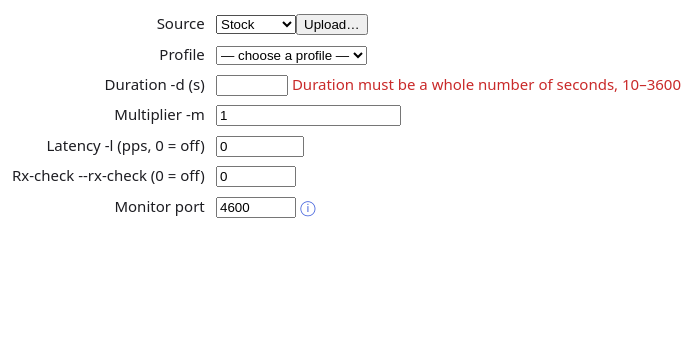
StfRunFields › profiles list and the picked profile shows its templates
The width and height of the screenshot is (698, 340).
Expected: the dropdown labelled "Source" shows "Stock", left=216, top=15, right=296, bottom=34
Select "cap2/sfr2.yaml" in the dropdown labelled "Profile". click: [292, 55]
box: left=216, top=46, right=367, bottom=64
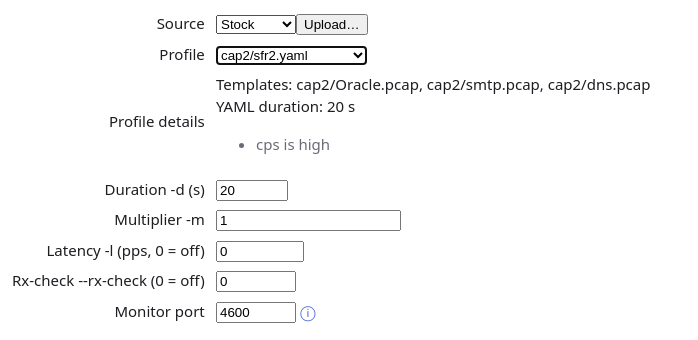
Result: the text "Templates: cap2/Oracle.pcap, cap2/smtp.pcap, cap2/dns.pcap" is shown at left=216, top=74, right=650, bottom=94
Result: the text "YAML duration: 20 s" is shown at left=216, top=96, right=355, bottom=116
Result: the list named "Profile warnings" reads "cps is high" at left=256, top=134, right=330, bottom=154
